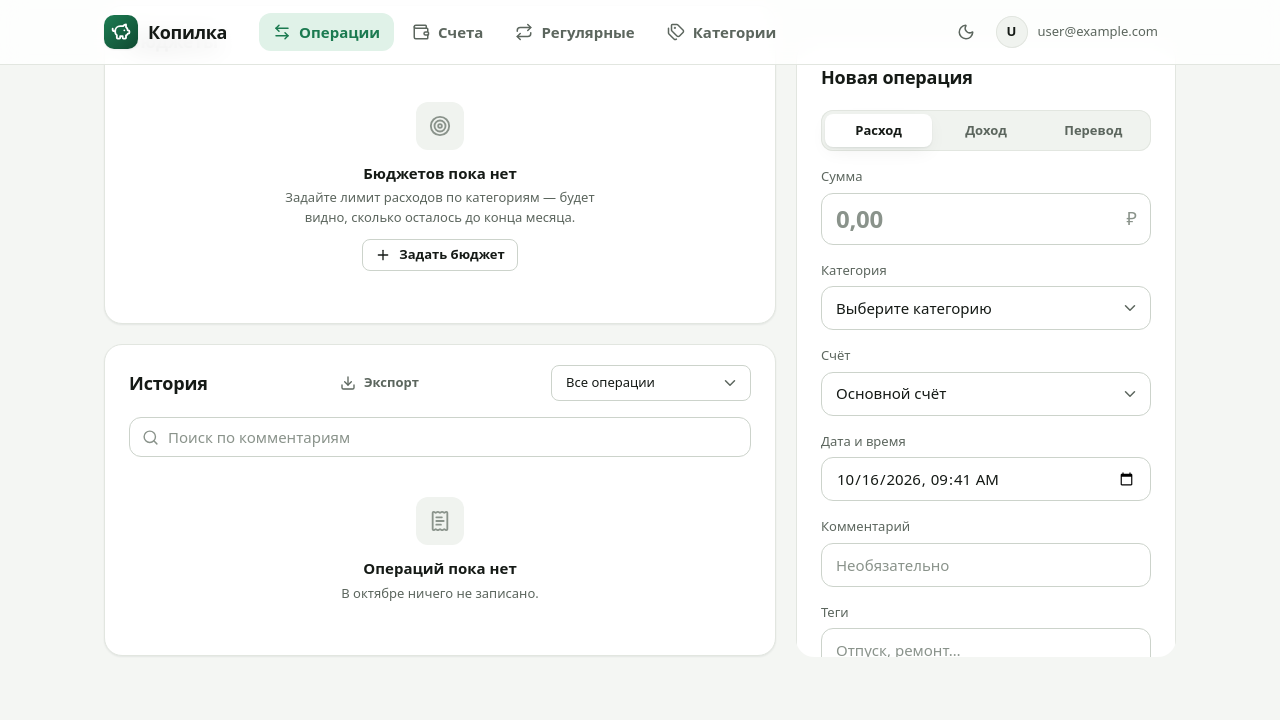
it: ExportCsvButton › says so when the export fails instead of saving an empty file
(page scrolled)
Click the button "Экспорт": [379, 383] box x1=327 y1=367 x2=432 y2=399
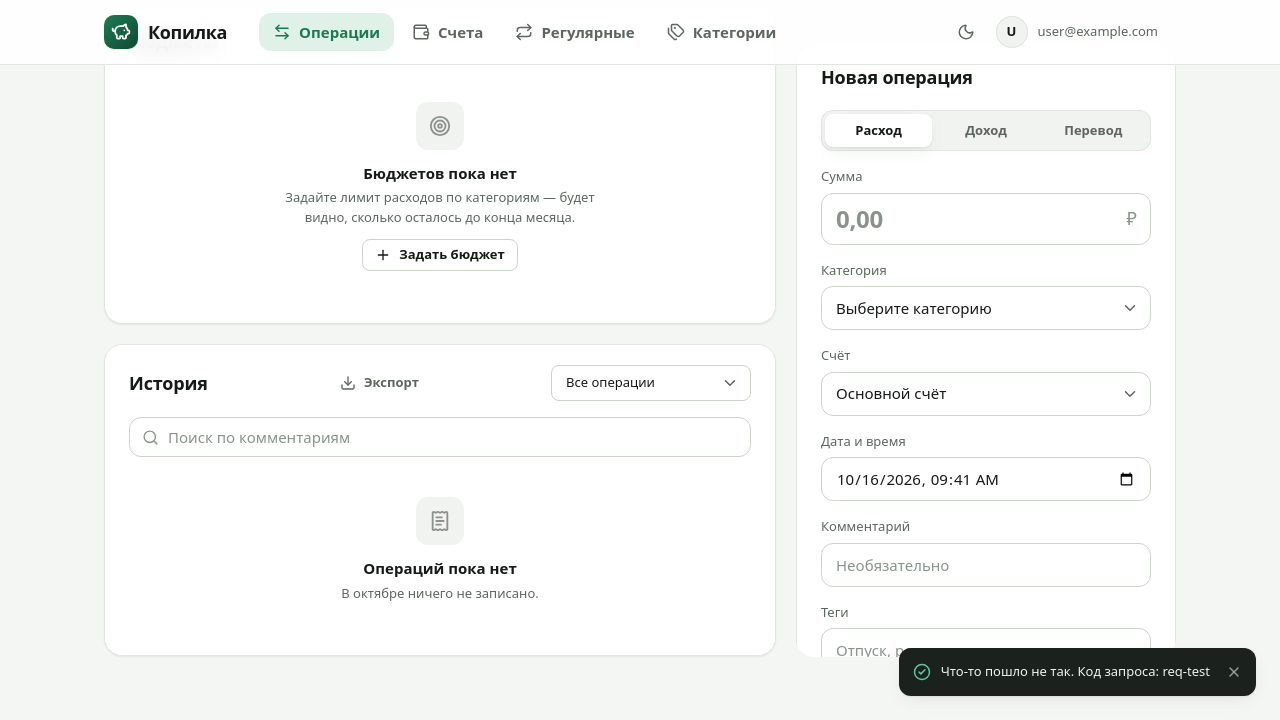
Check: the text "Что-то пошло не так. Код запроса: req-test" is shown, box x1=941 y1=662 x2=1210 y2=682
